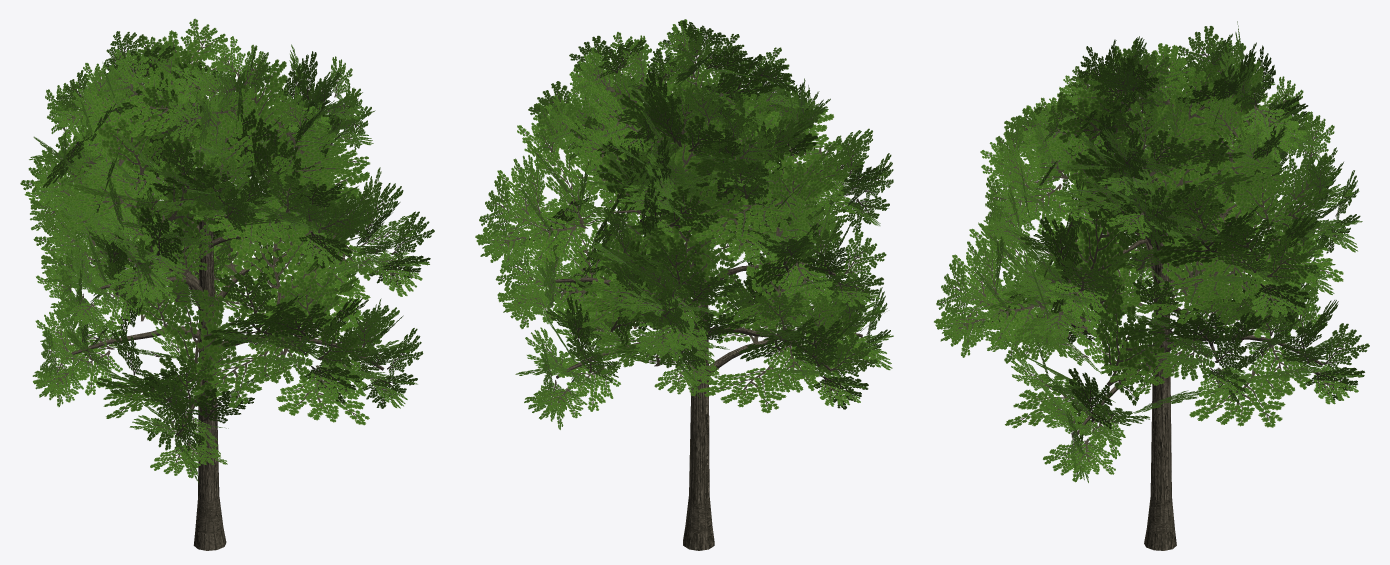
Rendered from Tree_Acerbic_B_Lod1.fbx.
3 views of the same model, side by side, from view 1: azimuth 30°, elevation 25°; view 2: azimuth 150°, elevation 25°; view 3: azimuth 270°, elevation 25° (orthographic).
Visible parts, largest first — view 1: Tree_Acerbic_B_Lod1; view 2: Tree_Acerbic_B_Lod1; view 3: Tree_Acerbic_B_Lod1.
Part boxes in pixels (box(x1,y1,x2,y2)): Tree_Acerbic_B_Lod1: box(20, 18, 434, 550); Tree_Acerbic_B_Lod1: box(475, 19, 893, 550); Tree_Acerbic_B_Lod1: box(934, 21, 1369, 550).
Size of the model in its own units: 248 by 340 by 270.
1 material, 1 textured.
